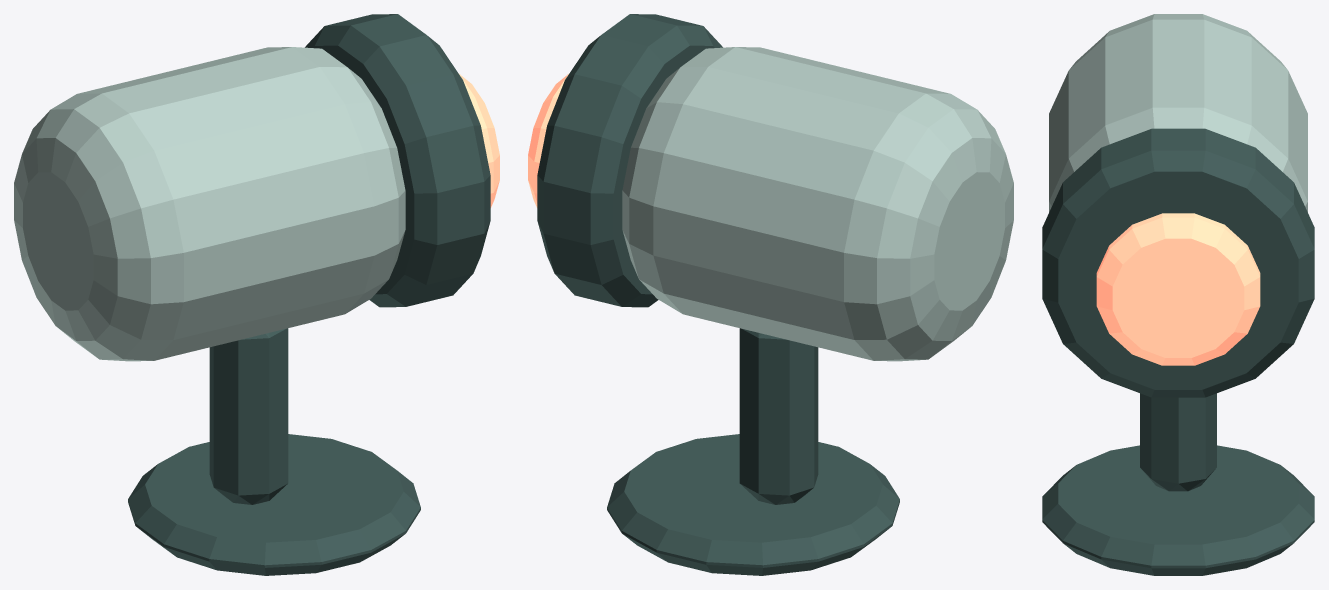
Rendered from Laser_Right.gltf.
3 renders of one model, left to right at view 1: azimuth 30°, elevation 25°; view 2: azimuth 150°, elevation 25°; view 3: azimuth 270°, elevation 25°, orthographic. The views are drawn at different scales.
Visible parts, largest first — view 1: Laser_Right_baked; view 2: Laser_Right_baked; view 3: Laser_Right_baked.
Boxes of the visible parts, x1=… form: Laser_Right_baked: x1=14, y1=14, x2=499, y2=575; Laser_Right_baked: x1=528, y1=14, x2=1013, y2=575; Laser_Right_baked: x1=1042, y1=14, x2=1314, y2=575.
Bounding box in the file's own units: 0.64 × 0.6962 × 0.3923.
